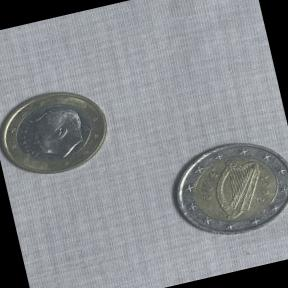1 Euro-B: (0, 74, 119, 189)
2 Euro-B: (155, 125, 288, 252)
